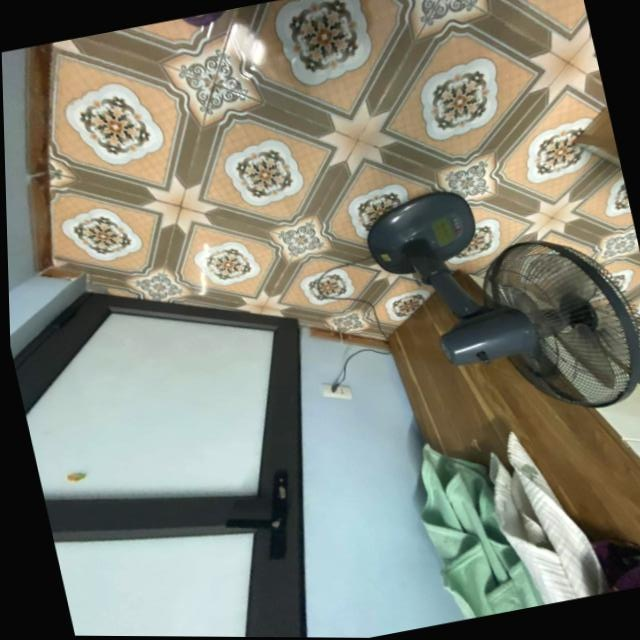outlet: (320, 378, 354, 403)
